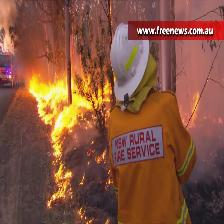fire: (27, 73, 74, 126), (49, 131, 67, 195)
